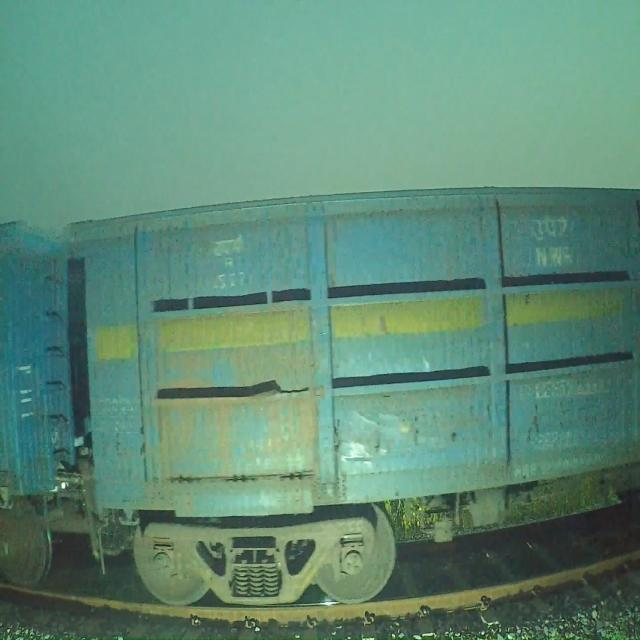WAgon-uic: (62, 177, 640, 612), (0, 207, 140, 588)
